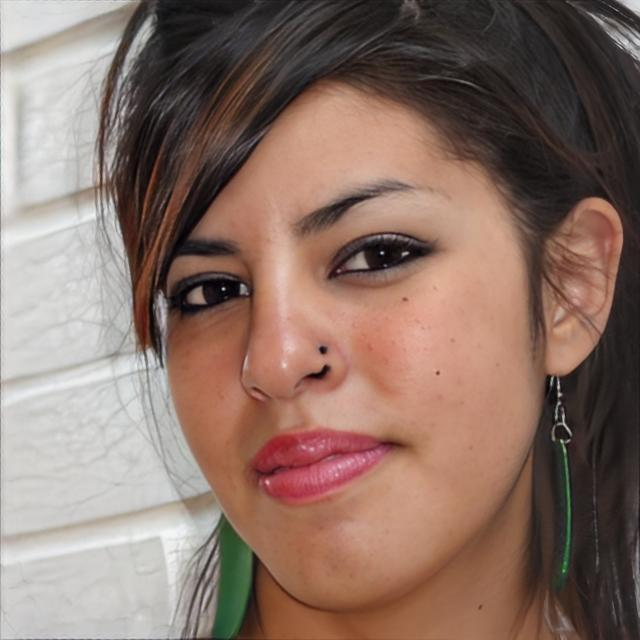content: (158, 73, 546, 616)
